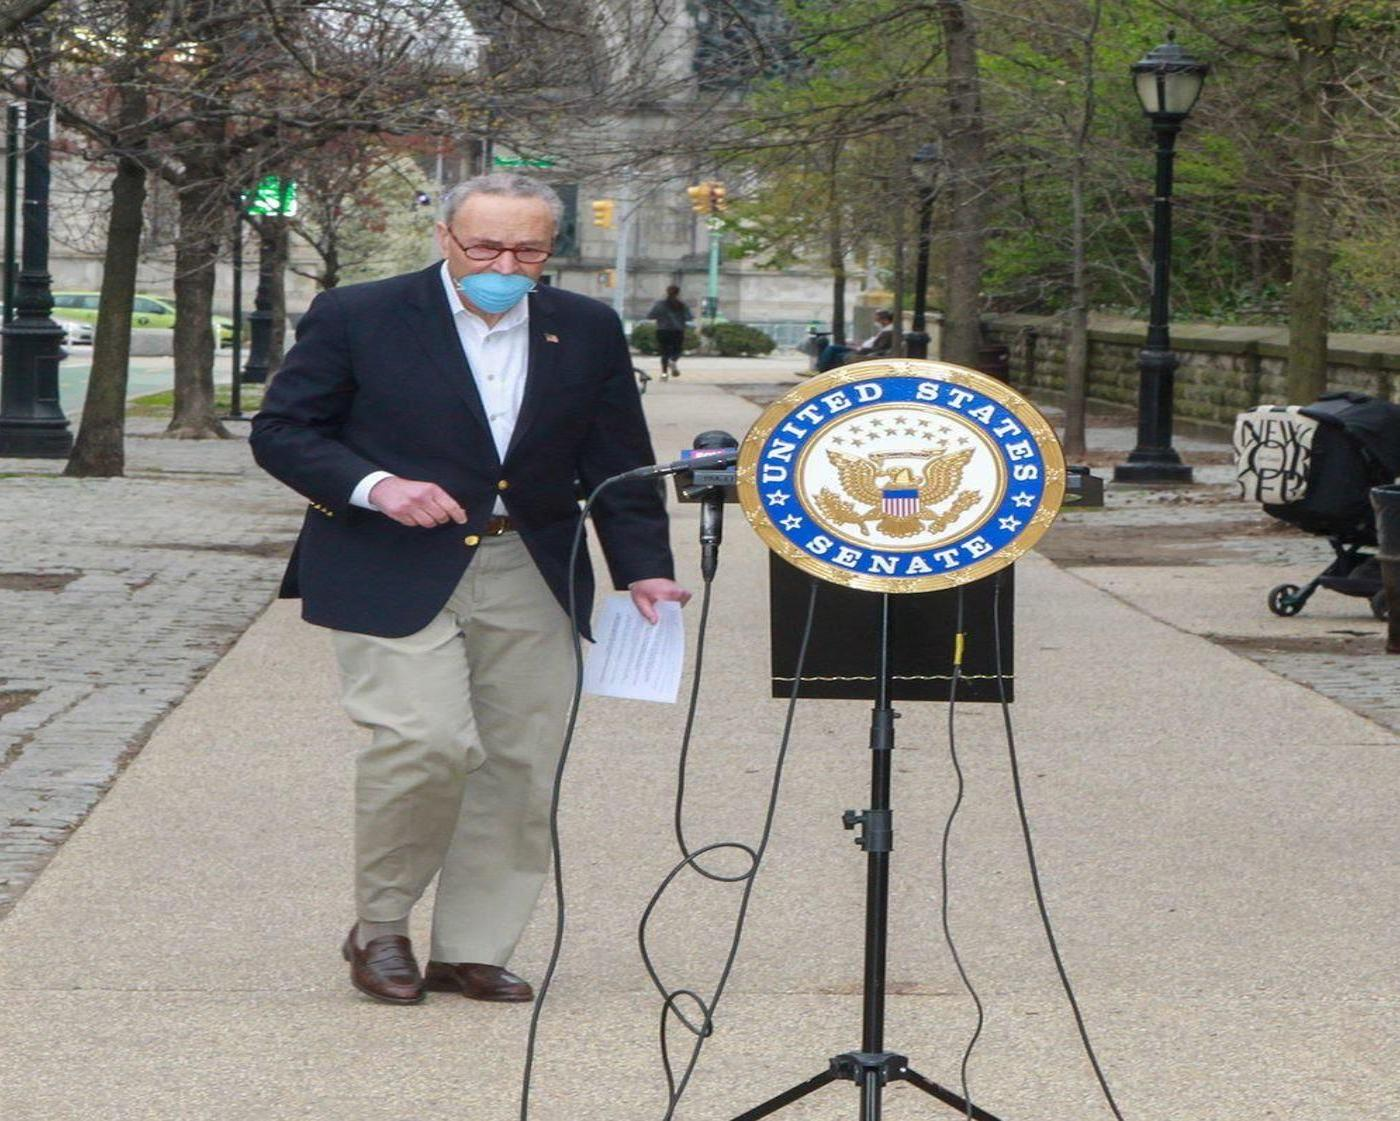mask_weared_incorrect: (431, 172, 566, 319)
